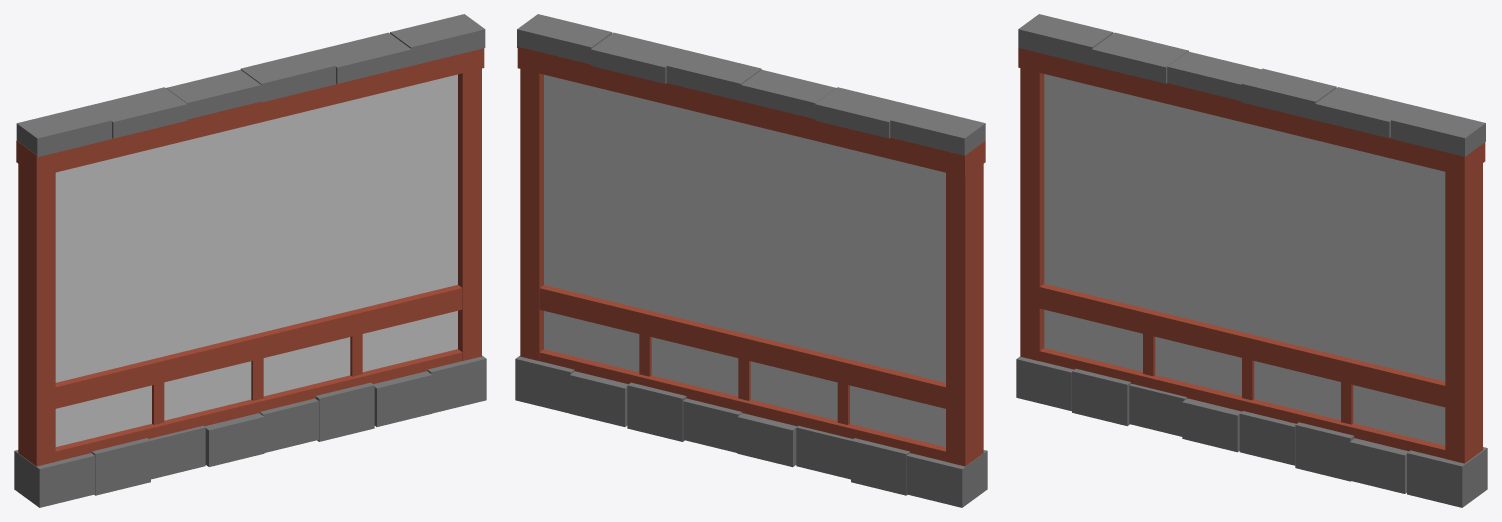
File: SM_wall_modular.fbx
3 renders of one model, left to right at view 1: azimuth 30°, elevation 25°; view 2: azimuth 150°, elevation 25°; view 3: azimuth 330°, elevation 25°, orthographic.
Parts seen in each view (by area): view 1: Plane036; view 2: Plane036; view 3: Plane036.
Boxes of the visible parts, bbox=[...] form: Plane036: bbox=[14, 14, 486, 507]; Plane036: bbox=[515, 14, 987, 507]; Plane036: bbox=[1016, 14, 1487, 507].
Bounding box in the file's own units: 152 × 120 × 16.78.
